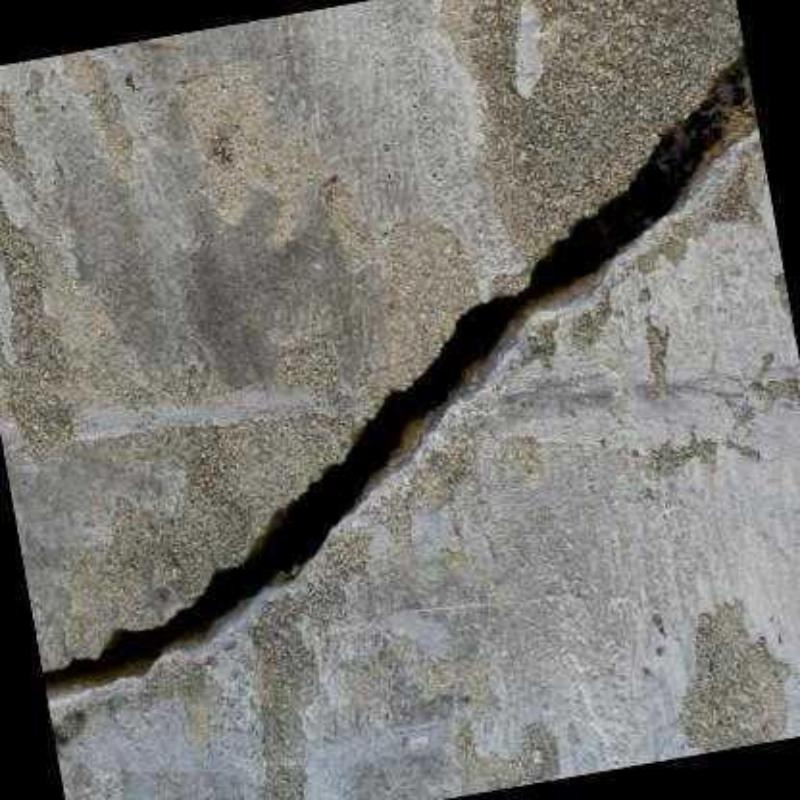crack: (42, 45, 757, 701)
